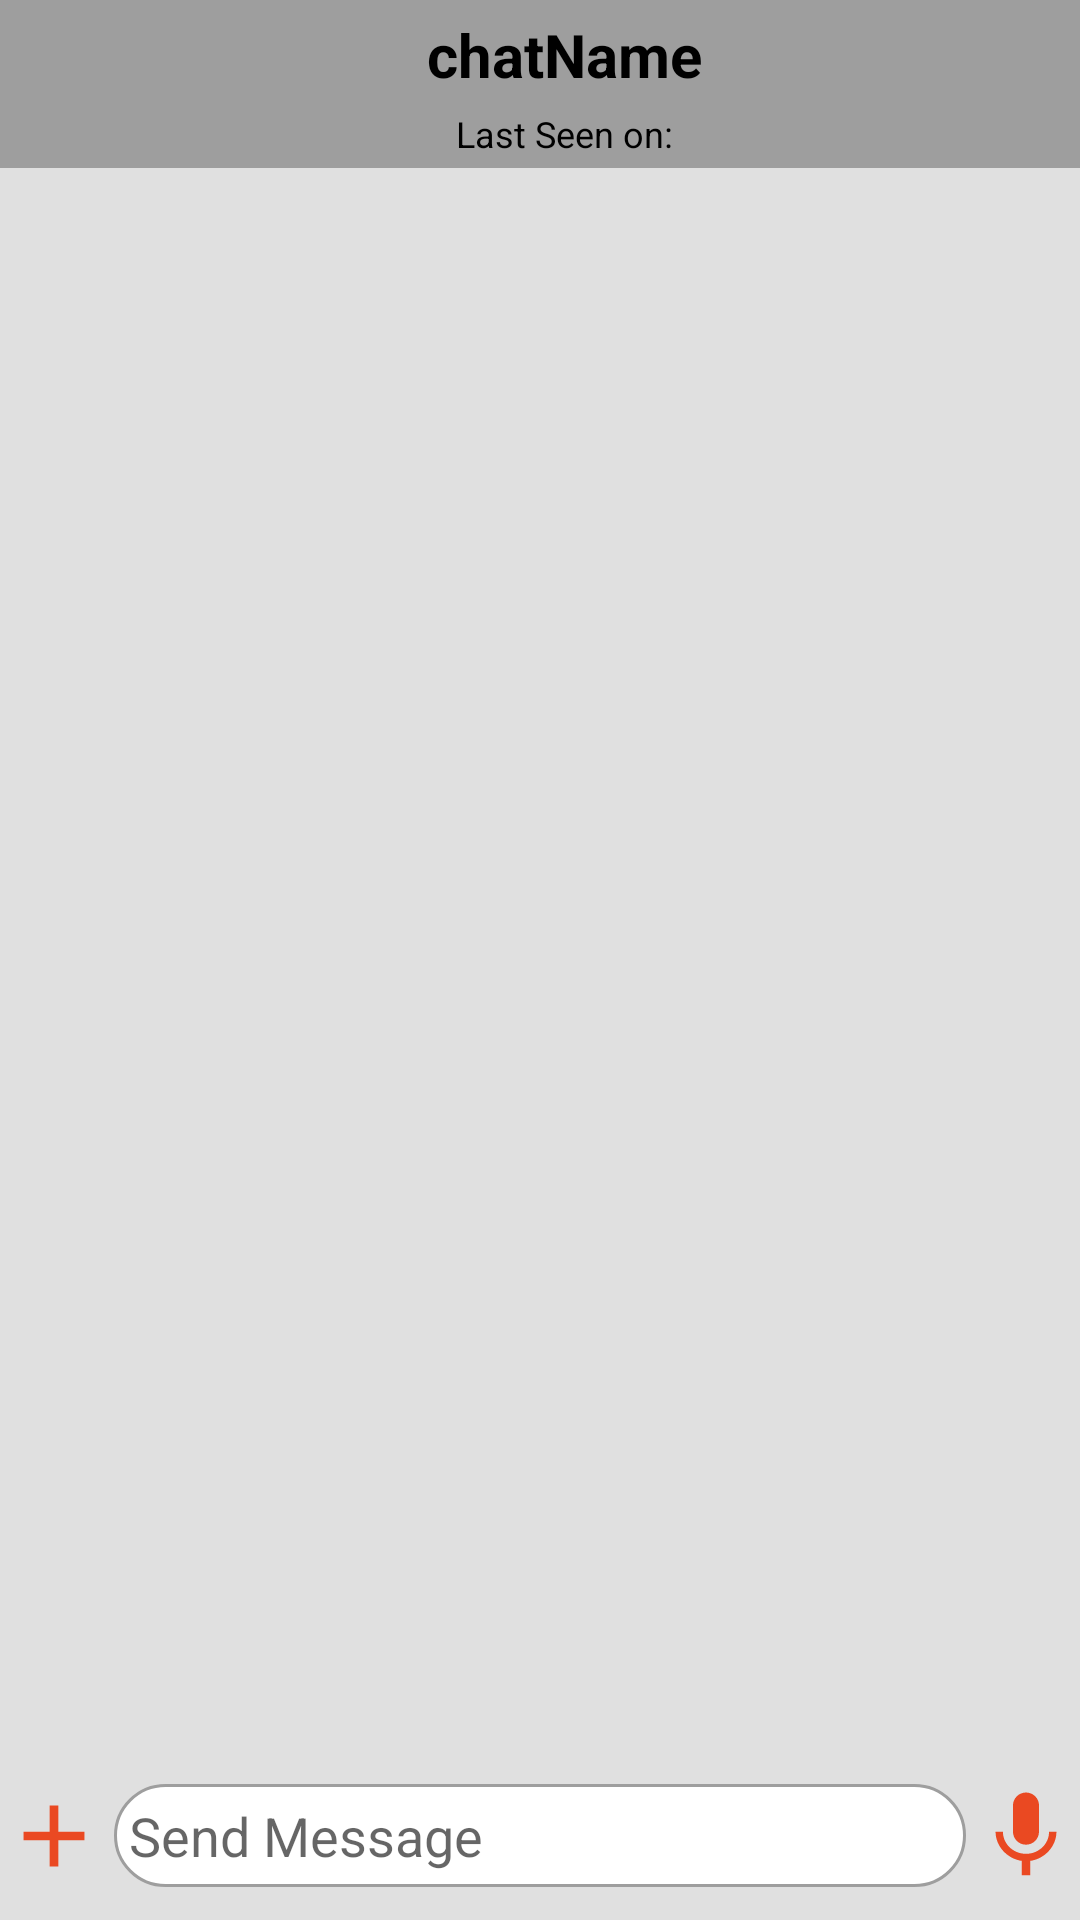

Point at icon controls on the screen. Image size 1080px x 1920px, points as (x,y).
record: (1026,1834)
